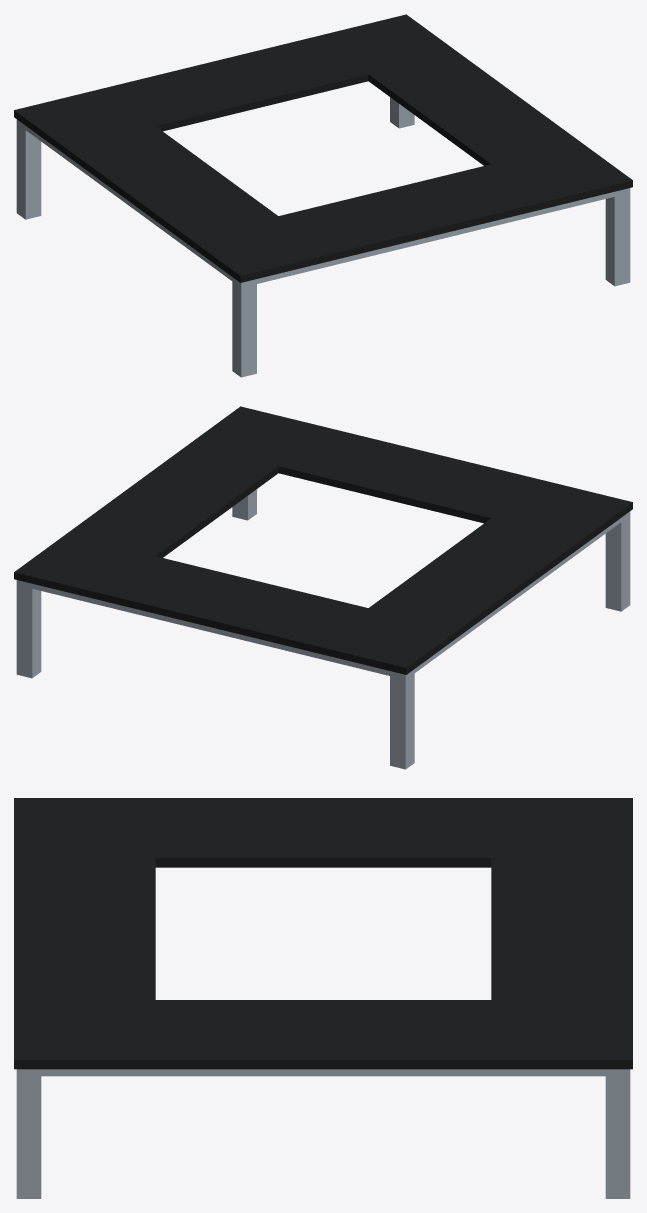
File: lobby table.fbx
The picture shows the model from 3 angles, top to bottom: view 1: azimuth 30°, elevation 25°; view 2: azimuth 150°, elevation 25°; view 3: azimuth 270°, elevation 25°; orthographic projection. The views are drawn at different scales.
Visible parts, largest first — view 1: Plane; view 2: Plane; view 3: Plane.
Part boxes in pixels (box(x1,y1,x2,y2)): Plane: box(14, 14, 632, 377); Plane: box(14, 406, 632, 769); Plane: box(14, 798, 632, 1198).
Bounding box in the file's own units: 200 × 49.99 × 200.
